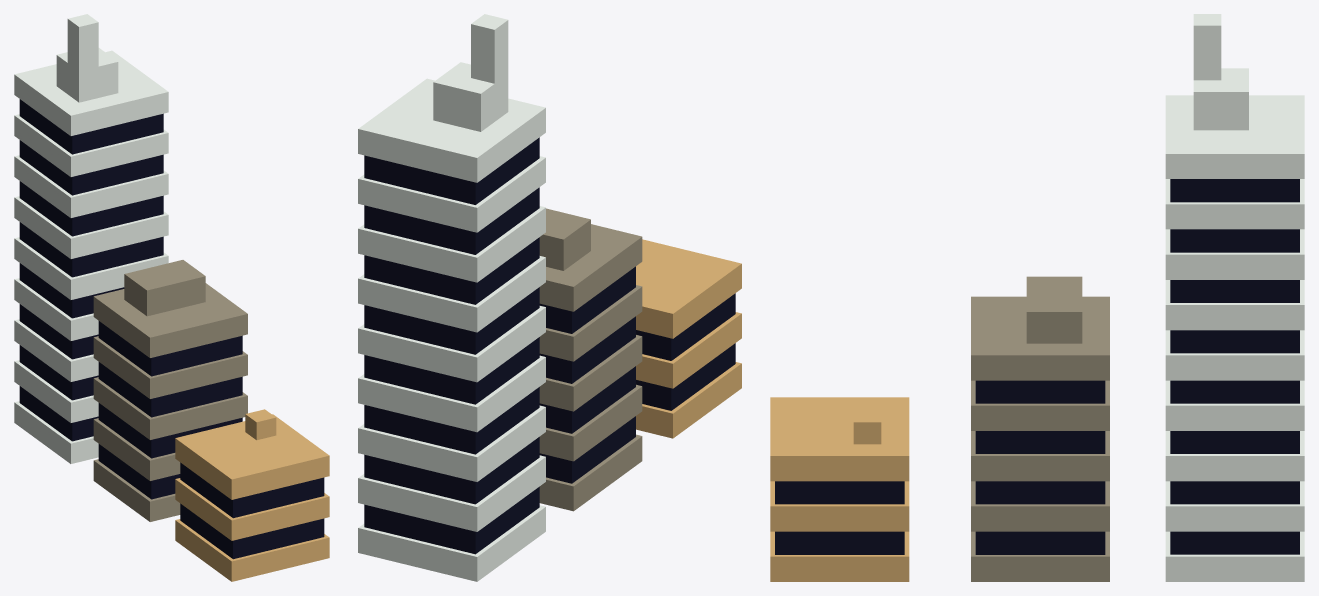
The model's file is buildingSet.glb.
The picture shows the model from 3 angles, left to right: view 1: azimuth 30°, elevation 25°; view 2: azimuth 150°, elevation 25°; view 3: azimuth 270°, elevation 25°; orthographic projection. The views are drawn at different scales.
Parts seen in each view (by area): view 1: Cube.002, Cube.001, Cube; view 2: Cube.002, Cube.001, Cube; view 3: Cube.002, Cube.001, Cube.
Boxes of the visible parts, x1,y1,x2,y2 form: Cube.002: [14, 14, 168, 463]; Cube.001: [93, 260, 247, 521]; Cube: [175, 409, 329, 581]; Cube.002: [358, 14, 545, 581]; Cube.001: [539, 208, 642, 511]; Cube: [636, 239, 741, 438]; Cube.002: [1165, 14, 1304, 581]; Cube.001: [971, 276, 1109, 581]; Cube: [770, 397, 909, 581].
Bounding box in the file's own units: 2 × 8.28 × 7.69.
